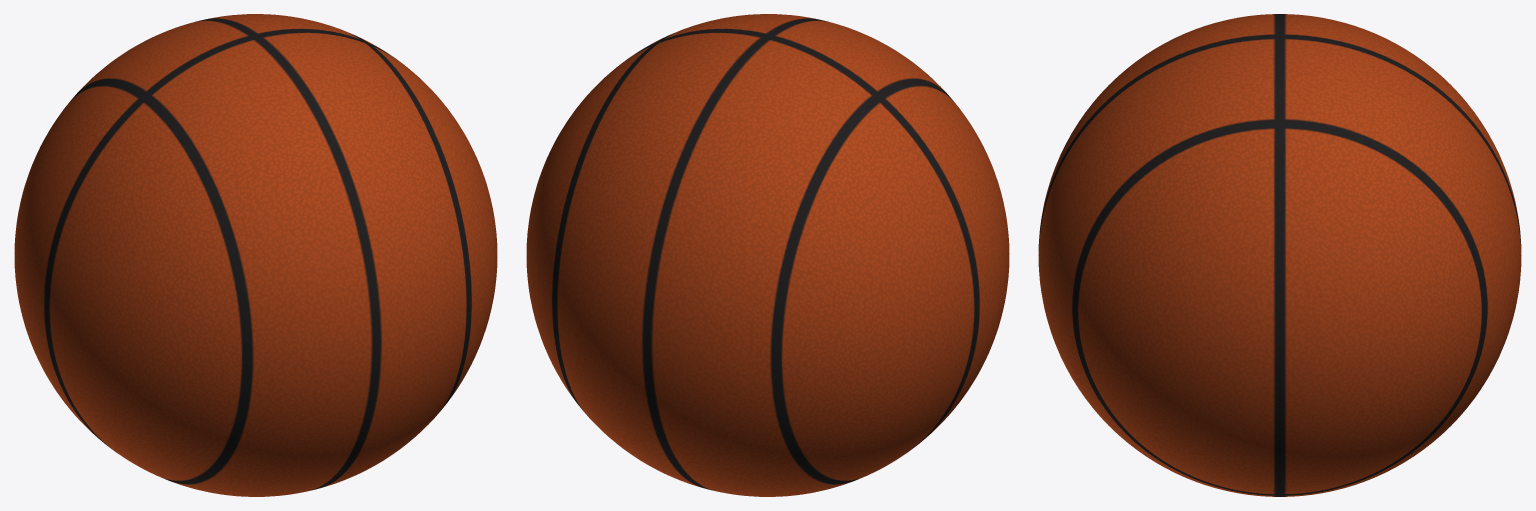
The model's file is basketball.glb.
3 views of the same model, side by side, from view 1: azimuth 30°, elevation 25°; view 2: azimuth 150°, elevation 25°; view 3: azimuth 270°, elevation 25° (orthographic).
Visible parts, largest first — view 1: Basketball.001; view 2: Basketball.001; view 3: Basketball.001.
Part boxes in pixels (x1=…): Basketball.001: x1=14, y1=14, x2=497, y2=496; Basketball.001: x1=526, y1=14, x2=1009, y2=496; Basketball.001: x1=1038, y1=14, x2=1521, y2=496.
Bounding box in the file's own units: 0.24 × 0.24 × 0.24.
1 material, 1 textured.
